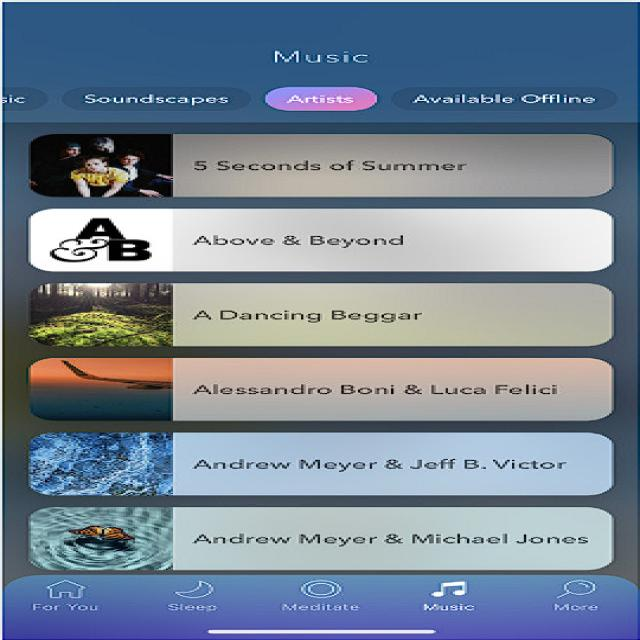icon button: (273, 576, 381, 620), (24, 574, 122, 617), (148, 578, 245, 619), (412, 575, 500, 620), (543, 575, 618, 624)
image: (30, 353, 170, 424), (21, 508, 172, 572), (31, 280, 168, 349), (33, 132, 172, 197), (30, 430, 172, 493), (21, 212, 170, 270)
row: (6, 501, 622, 578), (16, 276, 622, 351), (18, 129, 625, 203), (13, 352, 620, 426), (12, 426, 622, 498), (18, 208, 625, 276)
text: (184, 523, 596, 550), (178, 299, 485, 330), (184, 453, 582, 475), (181, 152, 497, 176), (187, 379, 587, 397), (193, 229, 445, 251), (256, 41, 383, 71)
